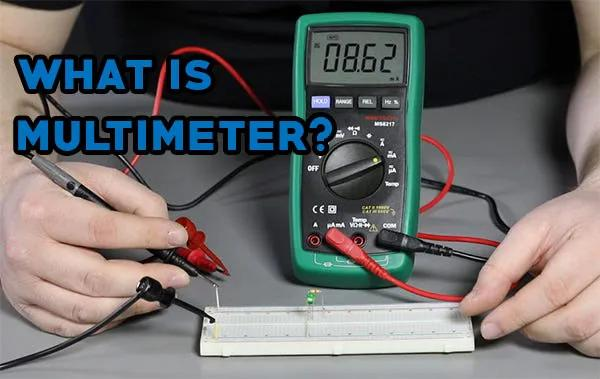multimeter: (287, 11, 452, 285)
